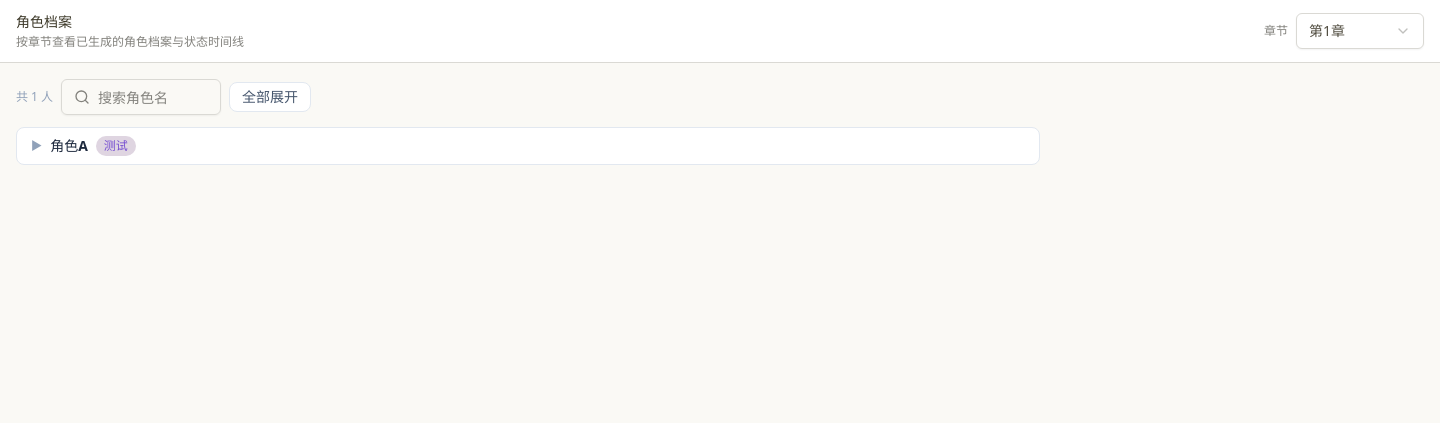
Test: CharacterArchivePage › 渲染 {level,text} 形态 slider 不崩溃
Click the button "全部展开": (270, 97) [229,82,311,112]
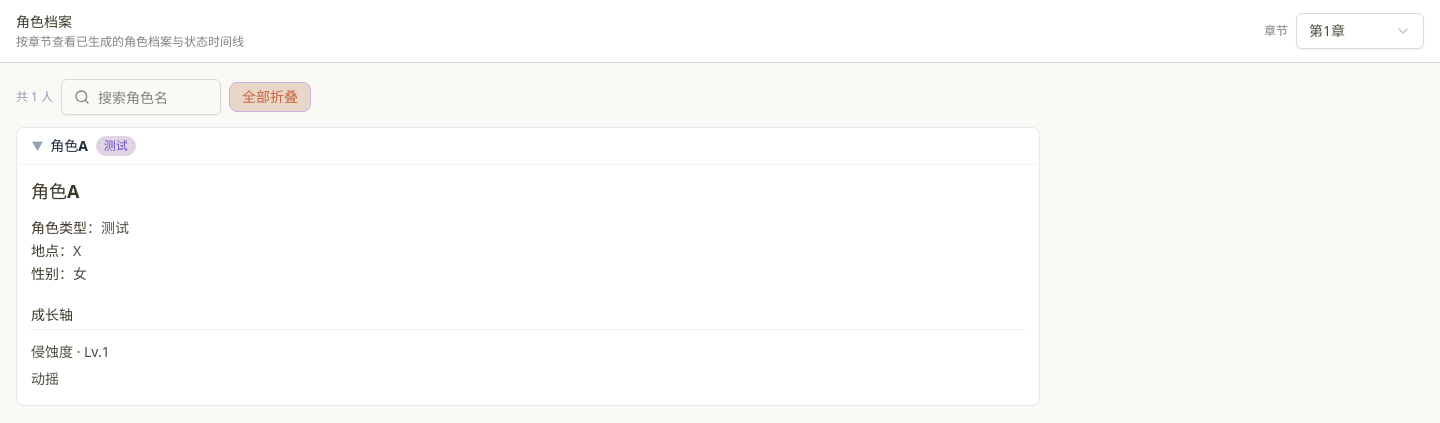
Expected: the text "动摇" is shown, [31,369,59,388]
Expected: the heading "侵蚀度 · Lv.1" is shown, [31,342,110,361]
